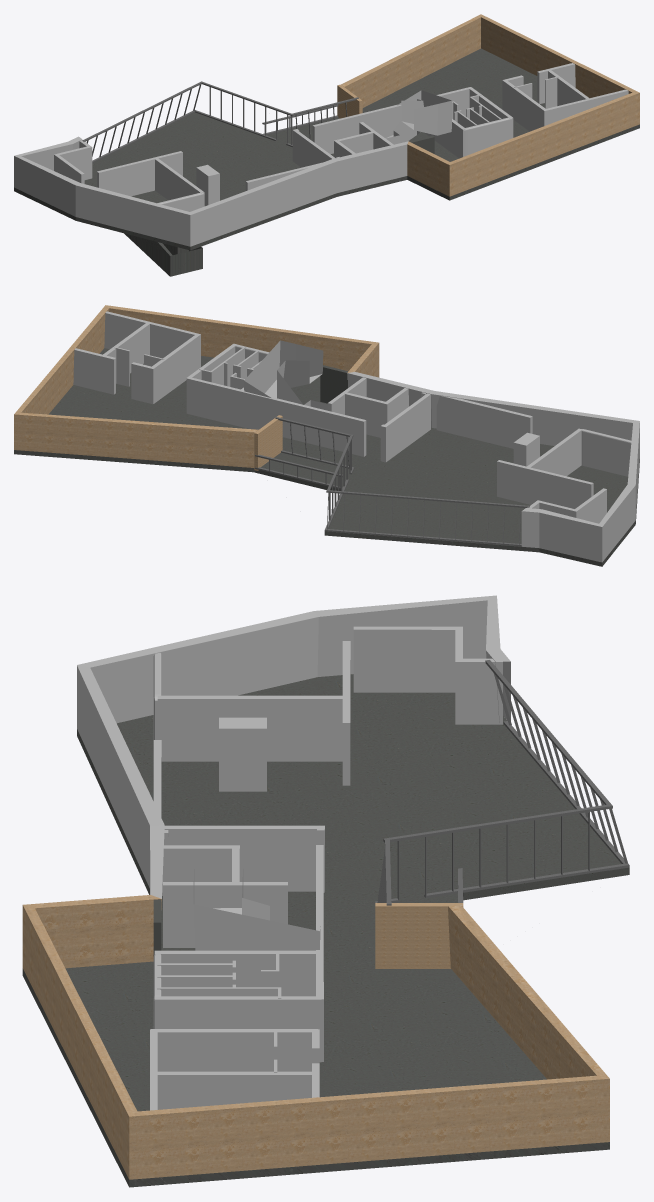
Rendered from gallery-transformed.glb.
The picture shows the model from 3 angles, top to bottom: view 1: azimuth 30°, elevation 25°; view 2: azimuth 150°, elevation 25°; view 3: azimuth 270°, elevation 25°; orthographic projection. The views are drawn at different scales.
Visible parts, largest first — view 1: outside_wall, floor, wall.035, stairs4t5, wall.016, stairs3t4, wall.009, wall.007, wall.017, wall.011, wall.002, room? (+12 smaller); view 2: outside_wall, floor, wall.035, stairs4t5, wall.033, wall.016, wall.011, wall.002, wall.009, wall.003, wall.031, wall.017 (+14 smaller); view 3: floor, outside_wall, wall.017, wall.019, wall.009, wall.002, wall.012, wall.010, wall.004, stairs4t5, wall.001, wall.022 (+12 smaller).
Part boxes in pixels (x1=…): outside_wall: x1=14, y1=14, x2=639, y2=246; floor: x1=14, y1=48, x2=639, y2=250; wall.035: x1=312, y1=87, x2=471, y2=154; stairs4t5: x1=385, y1=90, x2=451, y2=144; wall.016: x1=97, y1=151, x2=182, y2=196; stairs3t4: x1=124, y1=233, x2=202, y2=276; wall.009: x1=502, y1=79, x2=545, y2=131; wall.007: x1=463, y1=117, x2=512, y2=156; wall.017: x1=155, y1=158, x2=204, y2=200; wall.011: x1=543, y1=89, x2=628, y2=125; wall.002: x1=292, y1=130, x2=335, y2=167; room?: x1=196, y1=164, x2=219, y2=205; outside_wall: x1=14, y1=305, x2=639, y2=562; floor: x1=14, y1=348, x2=639, y2=566; wall.035: x1=186, y1=377, x2=366, y2=456; stairs4t5: x1=244, y1=340, x2=327, y2=410; wall.033: x1=436, y1=395, x2=532, y2=448; wall.016: x1=497, y1=460, x2=593, y2=508; wall.011: x1=104, y1=311, x2=200, y2=367; wall.002: x1=382, y1=393, x2=430, y2=462; wall.009: x1=150, y1=333, x2=200, y2=403; wall.003: x1=581, y1=429, x2=631, y2=476; wall.031: x1=73, y1=348, x2=115, y2=394; wall.017: x1=527, y1=428, x2=582, y2=476; floor: x1=22, y1=674, x2=629, y2=1187; outside_wall: x1=22, y1=595, x2=609, y2=1179; wall.017: x1=157, y1=695, x2=343, y2=761; wall.019: x1=353, y1=626, x2=462, y2=692; wall.009: x1=151, y1=1029, x2=317, y2=1071; wall.002: x1=164, y1=825, x2=324, y2=891; wall.012: x1=154, y1=996, x2=321, y2=1062; wall.010: x1=151, y1=1071, x2=317, y2=1109; wall.004: x1=375, y1=903, x2=463, y2=968; stairs4t5: x1=193, y1=869, x2=320, y2=950; wall.001: x1=163, y1=882, x2=287, y2=947; wall.022: x1=154, y1=950, x2=315, y2=996.
Size of the model in its own units: 41.6 by 7.38 by 20.53.
Materials: 4 (2 with a texture image).
